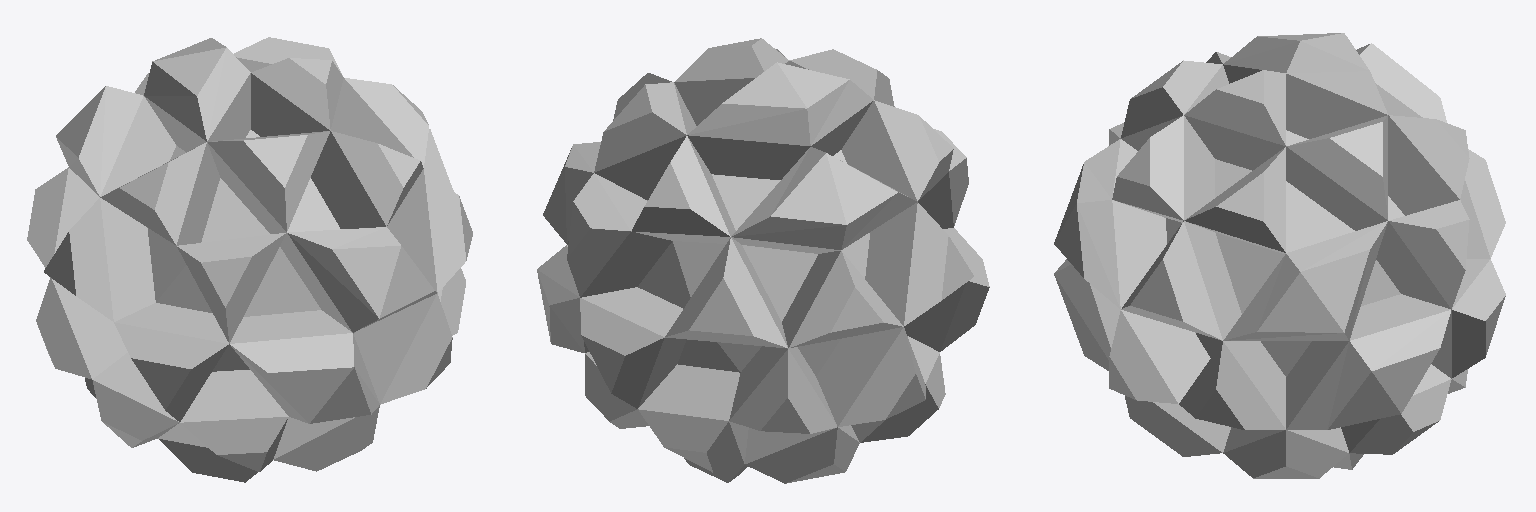
File: ico2.obj
3 views of the same model, side by side, from view 1: azimuth 30°, elevation 25°; view 2: azimuth 150°, elevation 25°; view 3: azimuth 270°, elevation 25° (orthographic).
Visible parts, largest first — view 1: Icosphere; view 2: Icosphere; view 3: Icosphere.
Part boxes in pixels (left/top/right/bottom): Icosphere: left=27, top=37, right=472, bottom=482; Icosphere: left=537, top=38, right=989, bottom=483; Icosphere: left=1054, top=33, right=1505, bottom=478.
Size of the model in its own units: 3.14 by 3.2 by 3.19.